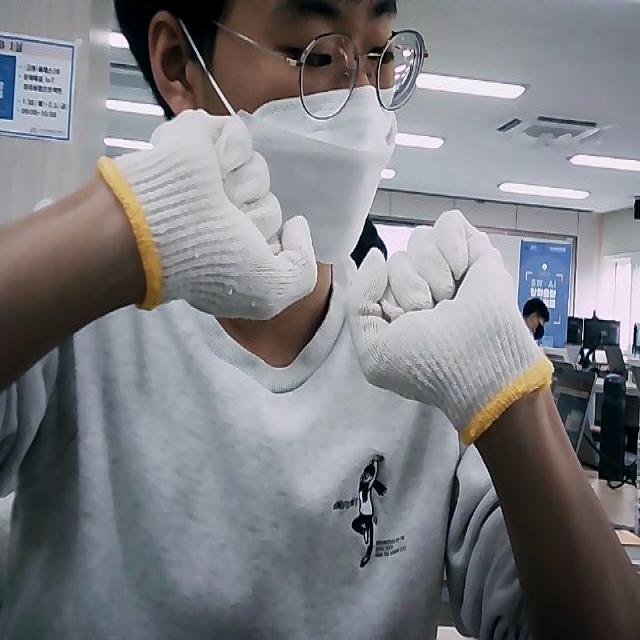gloves: (354, 208, 554, 442), (102, 109, 318, 319)
